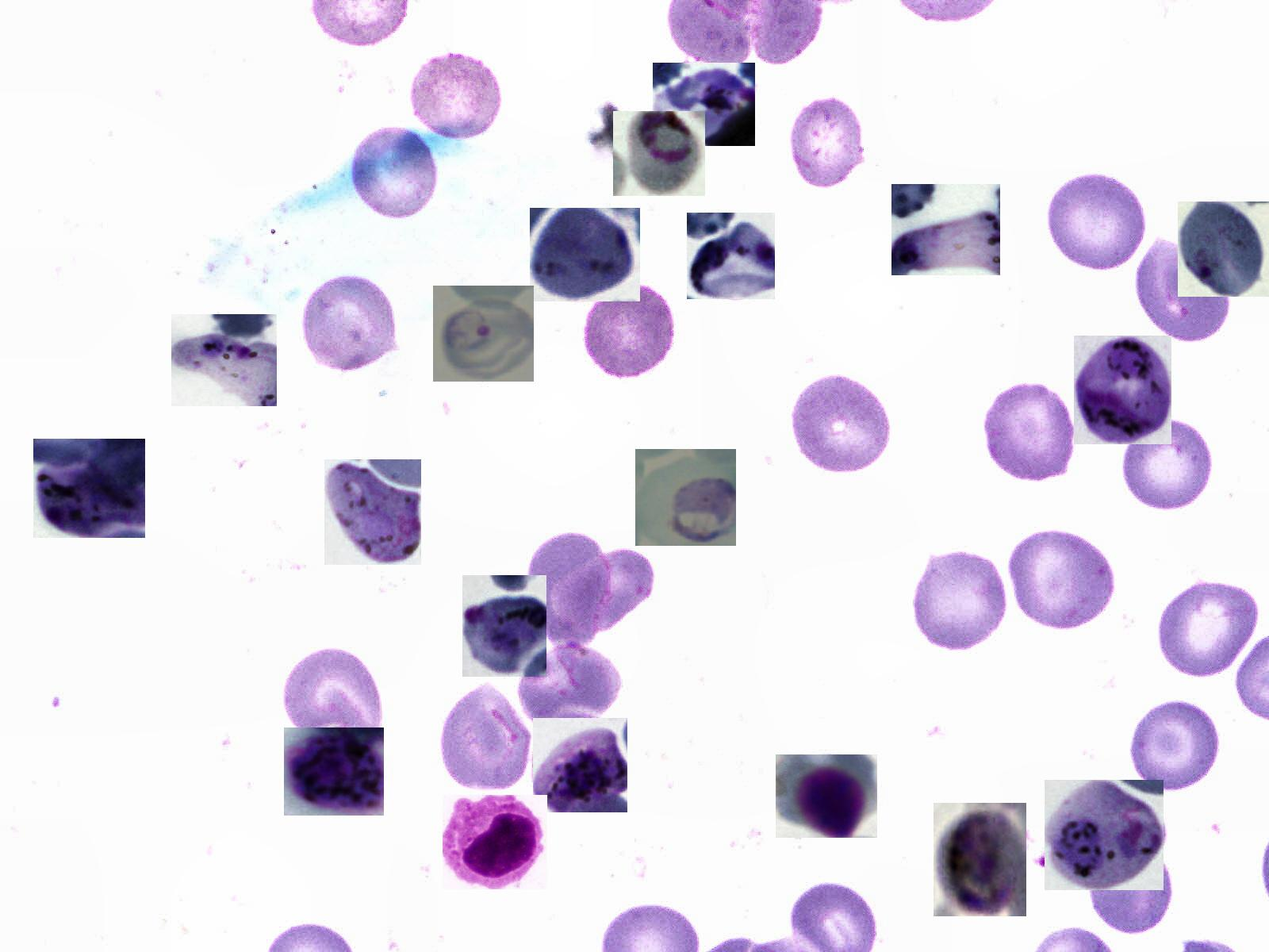Infected: (1045, 780, 1164, 890), (34, 439, 145, 538), (1074, 336, 1171, 444), (934, 803, 1026, 916), (324, 460, 421, 566), (530, 208, 640, 301), (891, 184, 1000, 275), (635, 449, 736, 546), (443, 795, 547, 889), (171, 314, 277, 406), (433, 286, 534, 382), (284, 727, 384, 816), (533, 718, 627, 812), (1178, 202, 1269, 297), (462, 575, 546, 677), (776, 754, 877, 838), (653, 63, 755, 146), (613, 111, 705, 196), (687, 213, 775, 299)
Uninfected: (1004, 527, 1120, 630), (1045, 171, 1155, 274), (1152, 579, 1264, 679), (785, 376, 893, 478), (982, 378, 1079, 488), (1135, 237, 1233, 345), (282, 650, 385, 752), (911, 551, 1011, 654), (298, 272, 403, 370), (440, 683, 532, 792), (527, 532, 612, 647), (549, 547, 655, 637), (583, 285, 681, 379), (405, 53, 508, 140), (1123, 416, 1216, 512), (519, 646, 622, 732), (1132, 698, 1225, 792), (782, 95, 869, 194), (349, 128, 443, 219), (1088, 838, 1175, 935)
